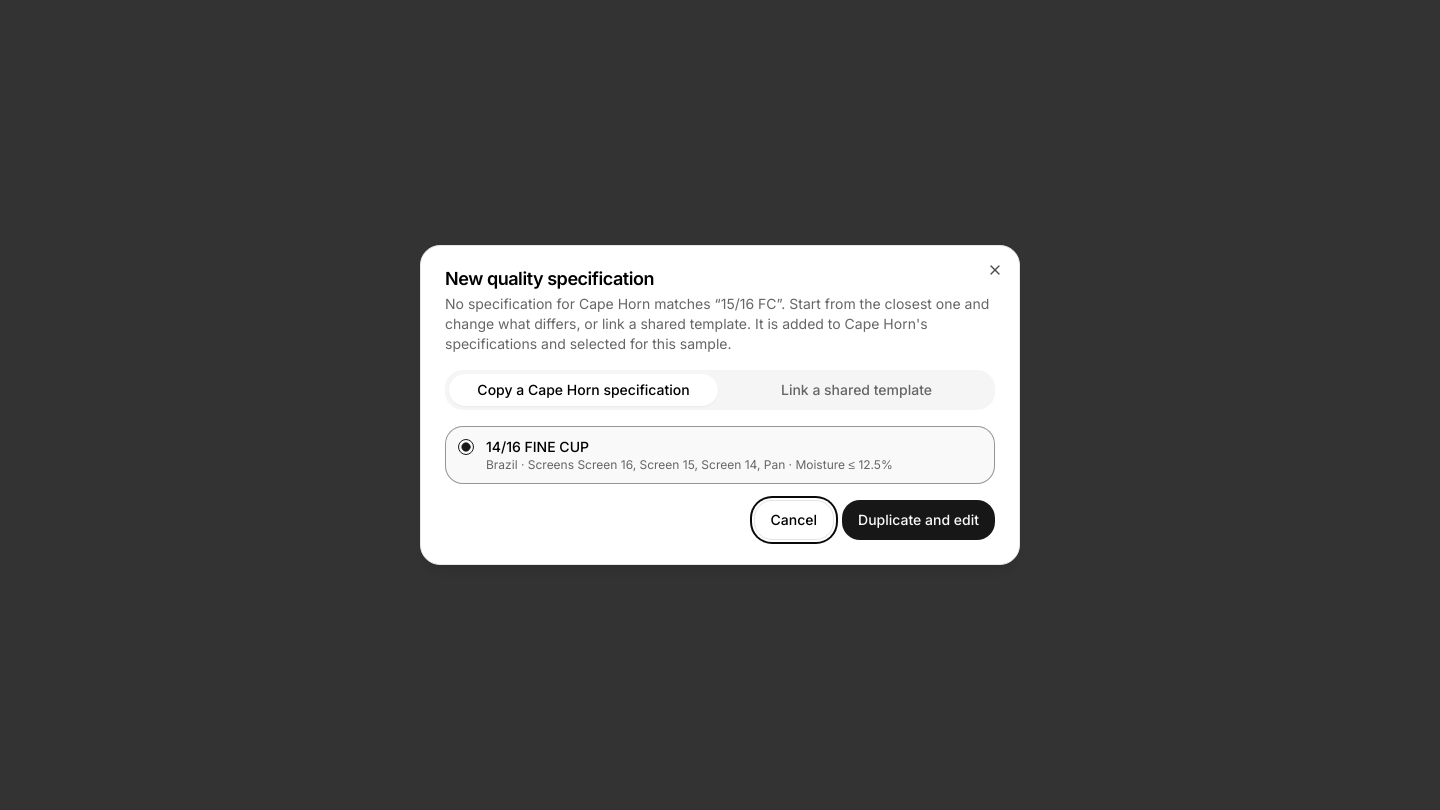
Test: LinkQualityTemplateDialog duplicating a client specification › undoes a change back to the source
The width and height of the screenshot is (1440, 810).
Click the button "Duplicate and edit": click(919, 520) [842, 500, 995, 540]
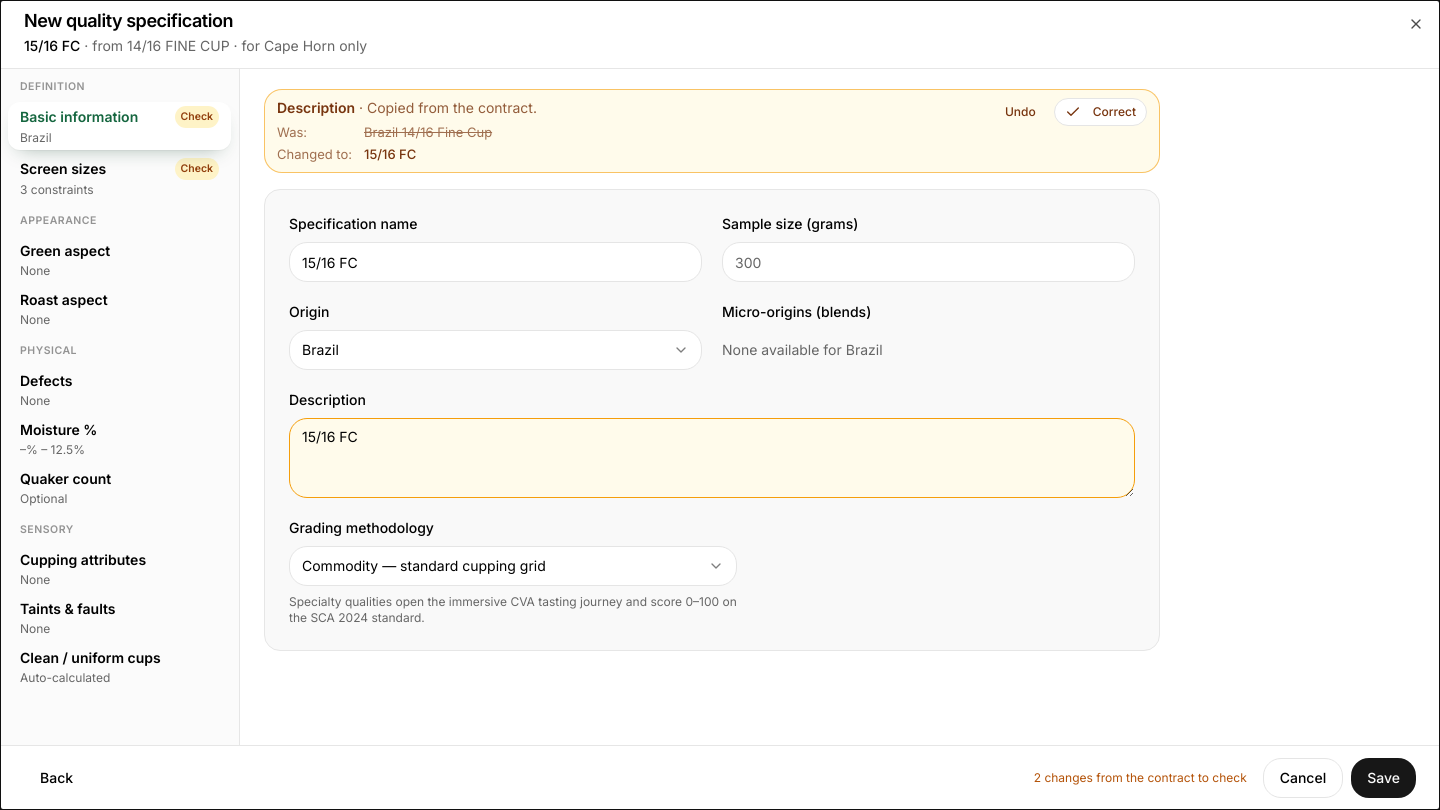
Click the button "Screen sizes Check 3 constraints": click(120, 178) [8, 154, 231, 202]
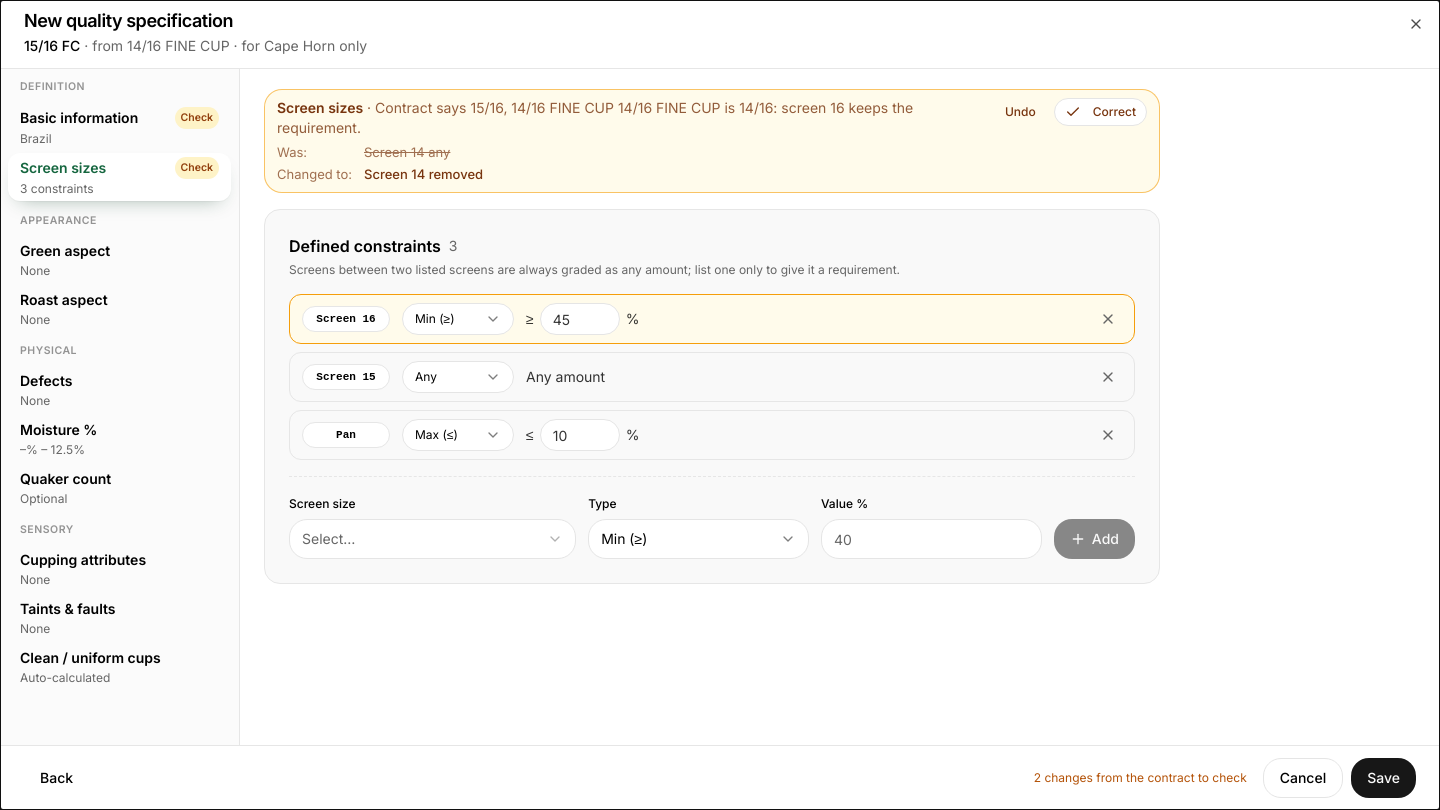
Click the button "Undo": click(1020, 112) [995, 98, 1046, 126]
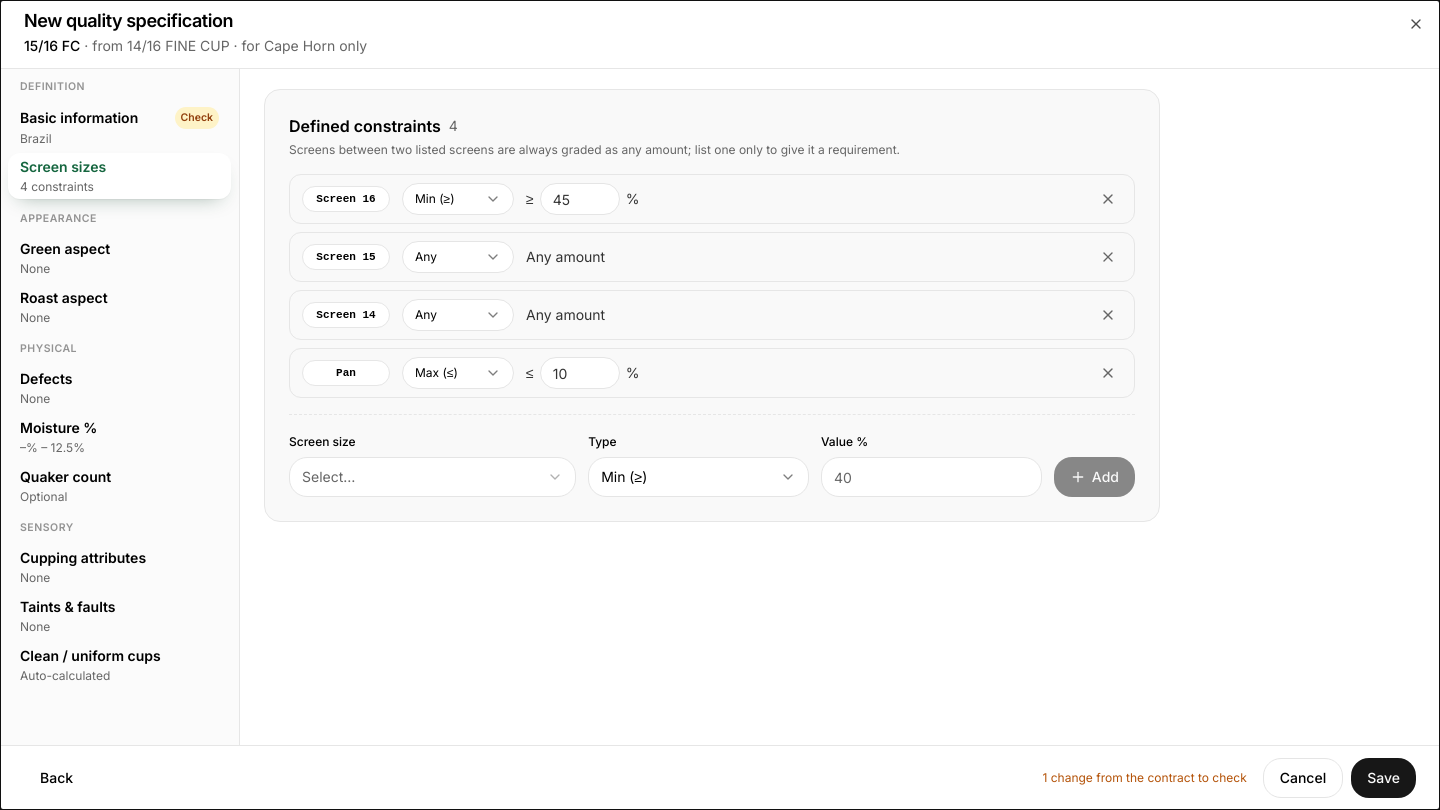
Expected: the text "Screen 14" is shown, [302, 302, 390, 328]
Expected: the text "Screen 14 removed" is gone
